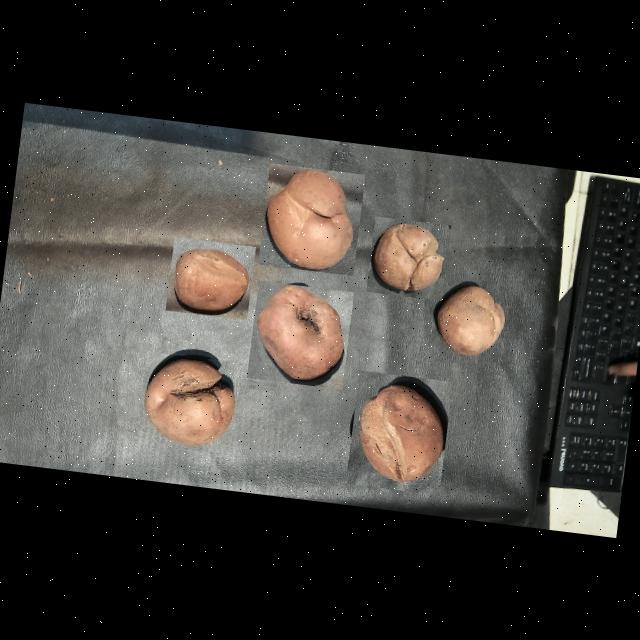Damaged potato: (346, 370, 452, 495)
Diseased-fungal potato: (257, 162, 365, 276), (246, 280, 354, 389), (136, 351, 242, 454), (166, 237, 256, 320), (366, 216, 450, 301), (431, 279, 513, 362)
